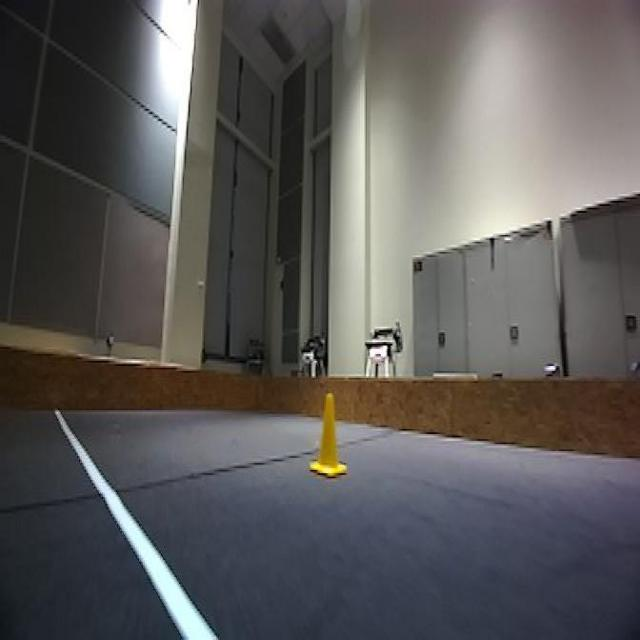frc_cone: (311, 388, 356, 483)
